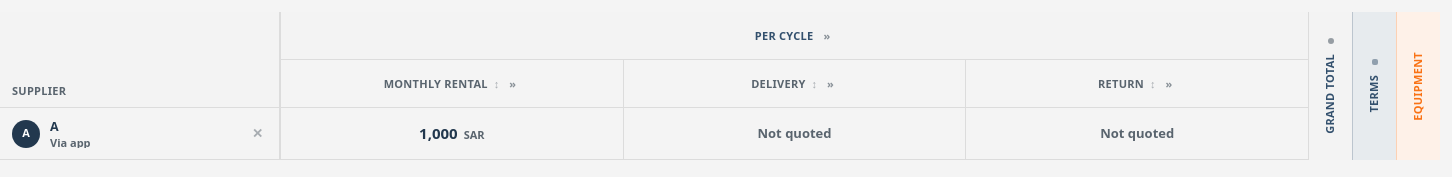
it: a term the request never mentioned draws no column › drops the grey rows nobody was asked about
What coordinates should you click on to do the following:
click the button "Terms"
I would click on:
 (1374, 86)
Its box is [1352,12,1396,160].
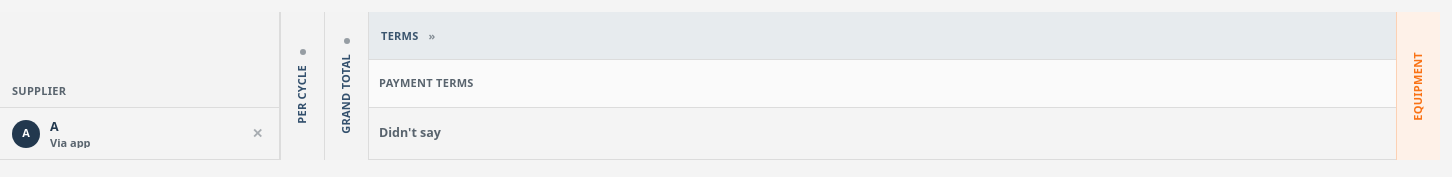
Check: the text "Payment terms" is shown, box [379,77,474,90]
